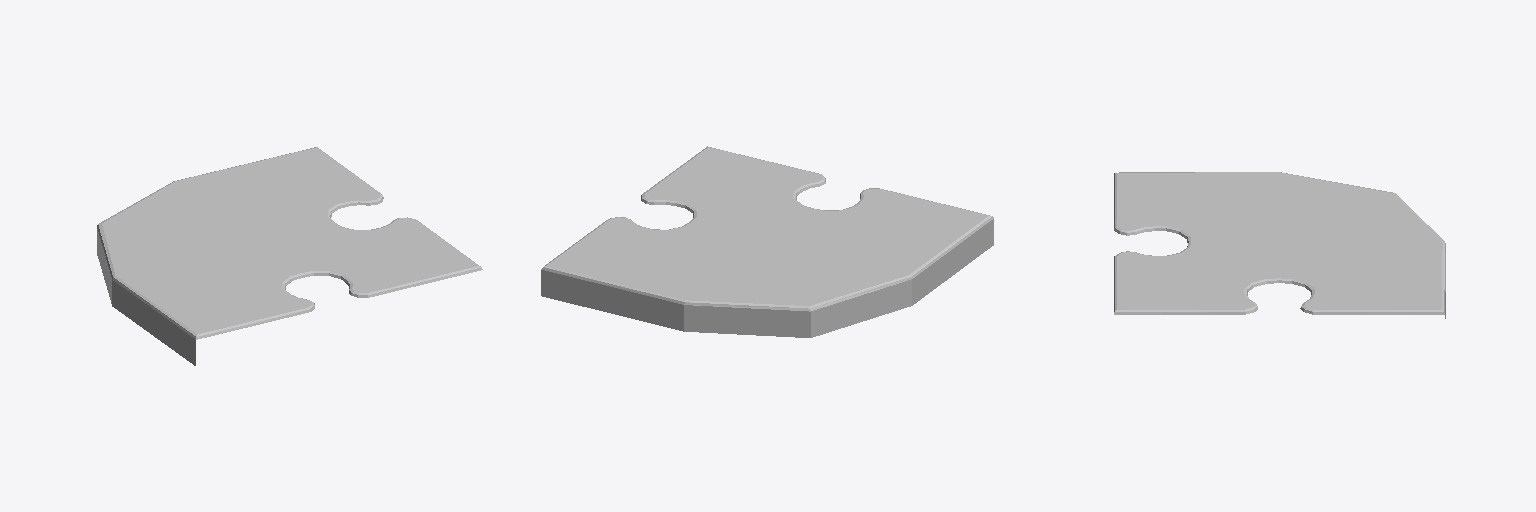
The model's file is Corner Top Left Dips.obj.
The picture shows the model from 3 angles: view 1: azimuth 30°, elevation 25°; view 2: azimuth 150°, elevation 25°; view 3: azimuth 270°, elevation 25°; orthographic projection.
Parts seen in each view (by area): view 1: PuzzleCornerTopLeftDips; view 2: PuzzleCornerTopLeftDips; view 3: PuzzleCornerTopLeftDips.
Boxes of the visible parts, x1=… form: PuzzleCornerTopLeftDips: x1=97, y1=147, x2=482, y2=365; PuzzleCornerTopLeftDips: x1=541, y1=146, x2=993, y2=337; PuzzleCornerTopLeftDips: x1=1114, y1=172, x2=1445, y2=318.
Size of the model in its own units: 593 by 59.05 by 593.